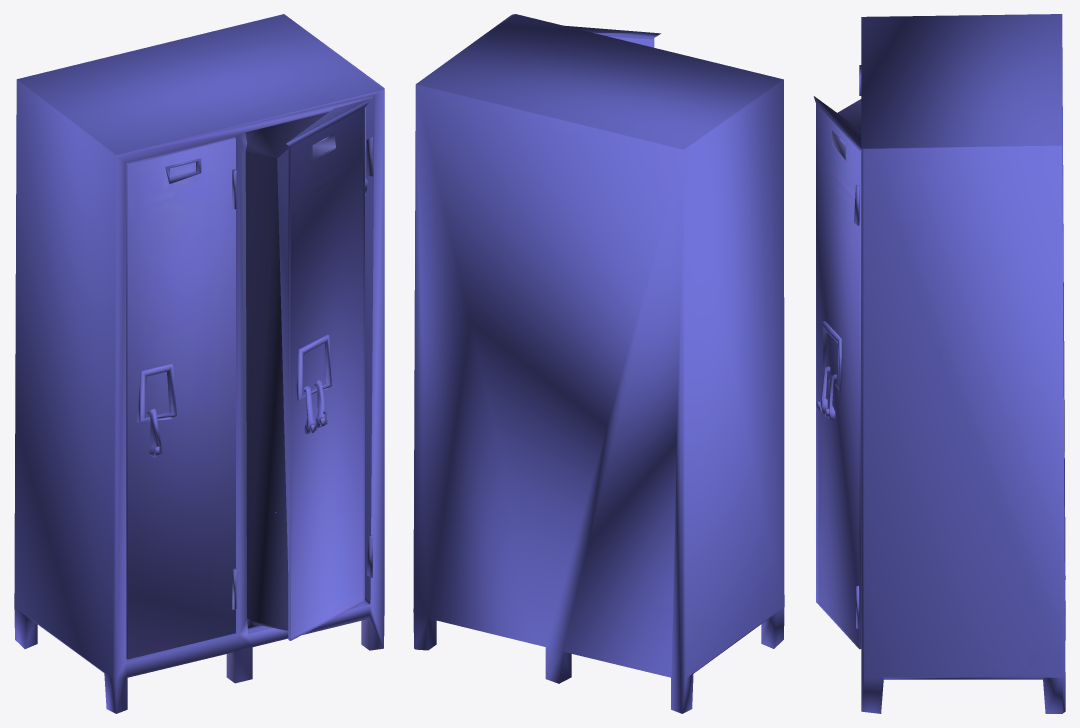
File: model.progressive.glb
3 renders of one model, left to right at view 1: azimuth 30°, elevation 25°; view 2: azimuth 150°, elevation 25°; view 3: azimuth 270°, elevation 25°, orthographic.
Visible parts, largest first — view 1: material; view 2: material; view 3: material.
Boxes of the visible parts, x1=… form: material: x1=14, y1=14, x2=384, y2=713; material: x1=413, y1=14, x2=784, y2=713; material: x1=813, y1=14, x2=1065, y2=713.
Size of the model in its own units: 0.9588 by 1.9 by 0.7636.
1 material, 1 textured.
